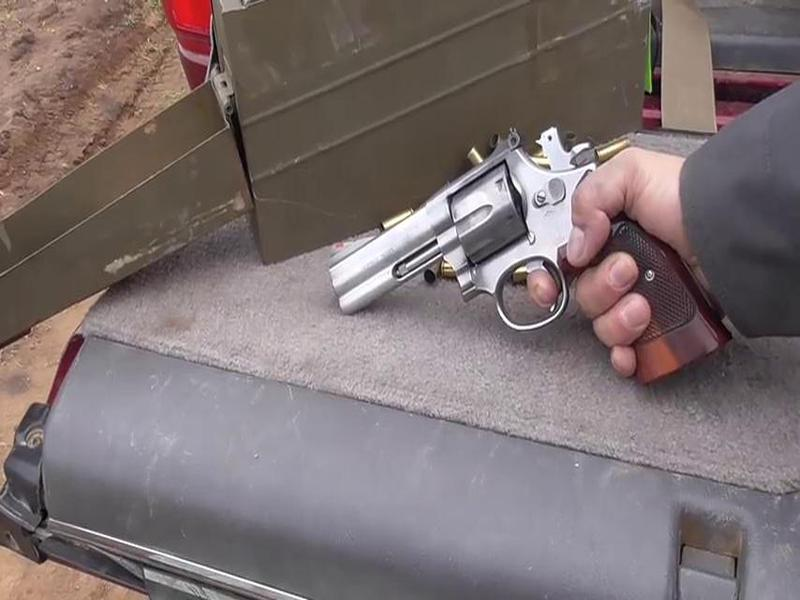Revolver: (324, 123, 656, 378)
